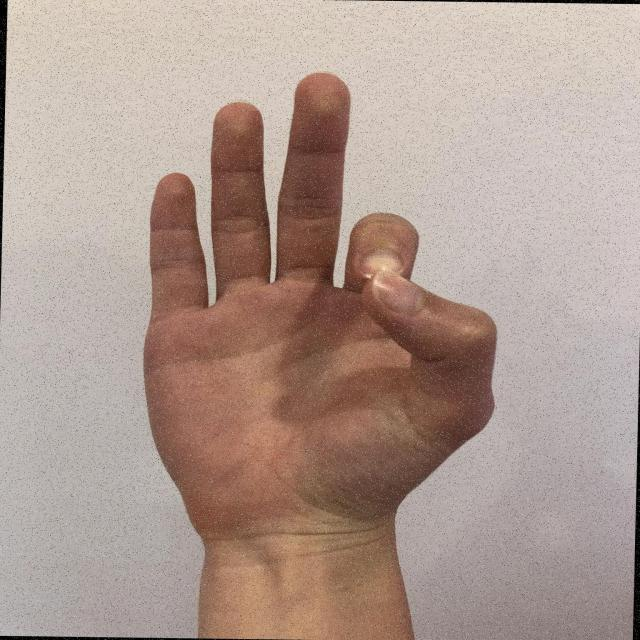F: (131, 62, 512, 529)
